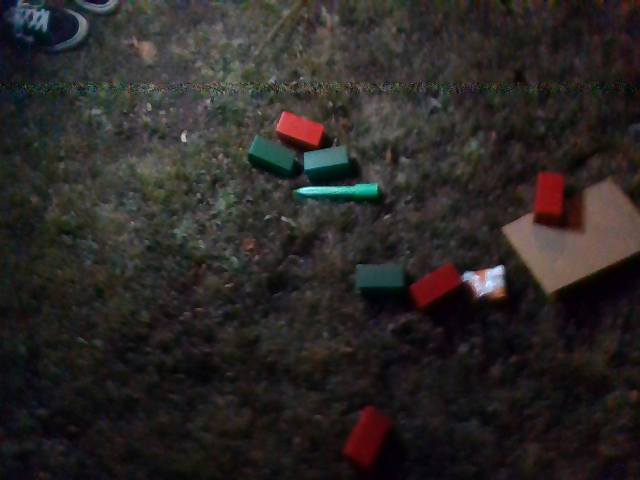Probe: (289, 173, 393, 196)
